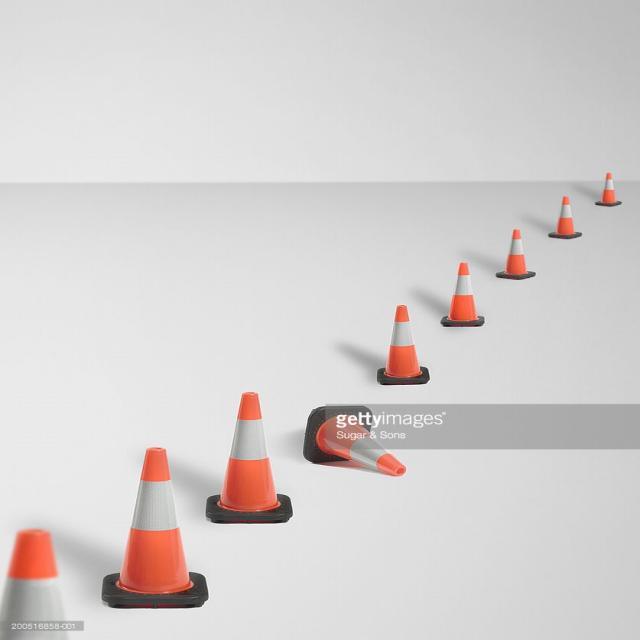cone: (82, 433, 216, 612), (186, 368, 304, 521), (310, 403, 425, 478), (359, 293, 444, 387), (432, 249, 488, 326), (533, 187, 593, 253), (483, 221, 534, 282)
